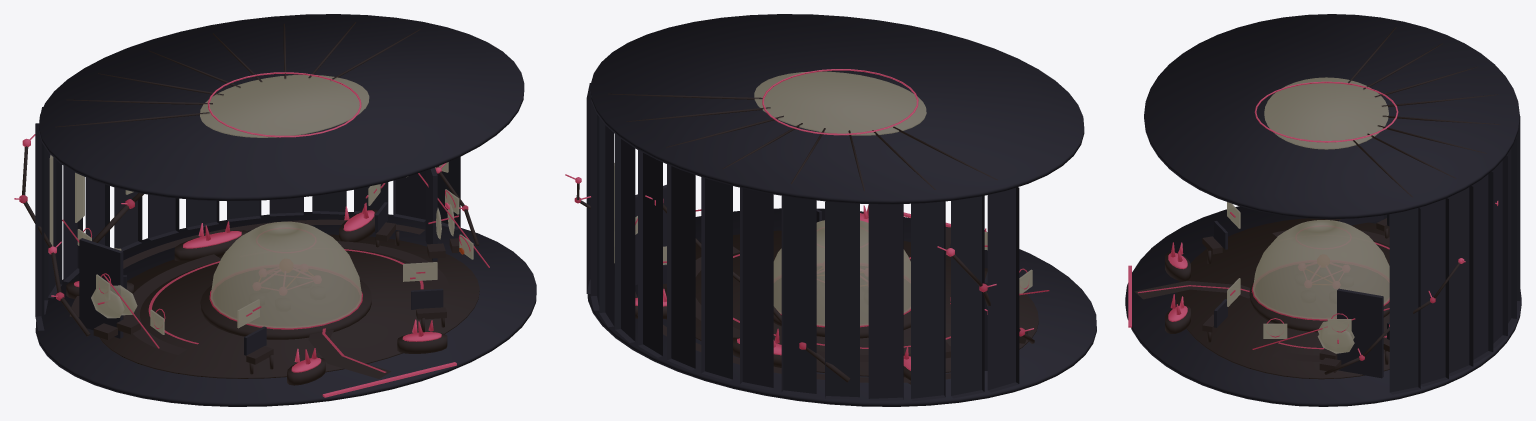
Rendered from relationships-int.glb.
The picture shows the model from 3 angles, left to right: view 1: azimuth 30°, elevation 25°; view 2: azimuth 150°, elevation 25°; view 3: azimuth 270°, elevation 25°; orthographic projection. The views are drawn at different scales.
Visible parts, largest first — view 1: connection_garden_room_shell_base_joined, connection_garden_room_shell_detail_joined, family_bonding_dome_transparent_glass_shell, connection_garden_room_shell_glass_joined, rose_energy_path_detail_joined, empathy_alcove_base_joined, low_planter_beds_detail_joined, family_bonding_dome_detail_joined, low_planter_beds_accent_joined, trust_vines_detail_joined, connection_garden_room_shell_accent_joined, ai_insight_bench_base_joined (+7 smaller); view 2: connection_garden_room_shell_base_joined, connection_garden_room_shell_glass_joined, connection_garden_room_shell_detail_joined, family_bonding_dome_transparent_glass_shell, rose_energy_path_detail_joined, trust_vines_detail_joined, connection_garden_room_shell_accent_joined, empathy_alcove_base_joined; view 3: connection_garden_room_shell_base_joined, connection_garden_room_shell_detail_joined, family_bonding_dome_transparent_glass_shell, connection_garden_room_shell_glass_joined, empathy_alcove_base_joined, rose_energy_path_detail_joined, connection_garden_room_shell_accent_joined, family_bonding_dome_detail_joined, ai_insight_bench_detail_joined, low_planter_beds_detail_joined, memory_timeline_glass_joined, empathy_alcove_glass_joined (+5 smaller).
Boxes of the visible parts, x1,y1,x2,y2 form: connection_garden_room_shell_base_joined: (35,14,536,406); connection_garden_room_shell_detail_joined: (55,22,479,378); family_bonding_dome_transparent_glass_shell: (210,221,361,328); connection_garden_room_shell_glass_joined: (49,75,448,246); rose_energy_path_detail_joined: (69,219,448,378); empathy_alcove_base_joined: (79,167,437,338); low_planter_beds_detail_joined: (66,209,447,385); family_bonding_dome_detail_joined: (200,279,371,339); low_planter_beds_accent_joined: (74,206,441,372); trust_vines_detail_joined: (22,146,479,336); connection_garden_room_shell_accent_joined: (207,72,456,397); ai_insight_bench_base_joined: (123,202,443,355); connection_garden_room_shell_base_joined: (586,14,1096,406); connection_garden_room_shell_glass_joined: (614,71,926,263); connection_garden_room_shell_detail_joined: (608,93,1038,376); family_bonding_dome_transparent_glass_shell: (773,220,910,325); rose_energy_path_detail_joined: (635,227,950,382); trust_vines_detail_joined: (576,183,1034,382); connection_garden_room_shell_accent_joined: (762,69,950,227); empathy_alcove_base_joined: (635,184,987,370); connection_garden_room_shell_base_joined: (1125,14,1521,406); connection_garden_room_shell_detail_joined: (1176,27,1500,379); family_bonding_dome_transparent_glass_shell: (1253,220,1389,319); connection_garden_room_shell_glass_joined: (1264,77,1388,149); empathy_alcove_base_joined: (1337,215,1383,378); rose_energy_path_detail_joined: (1134,230,1389,361); connection_garden_room_shell_accent_joined: (1128,81,1398,327); family_bonding_dome_detail_joined: (1249,281,1389,332); ai_insight_bench_detail_joined: (1202,218,1389,364); low_planter_beds_detail_joined: (1165,252,1190,333); memory_timeline_glass_joined: (1263,319,1351,338); empathy_alcove_glass_joined: (1317,321,1354,353).
Size of the model in its own units: 12.7 by 5.51 by 10.3.
